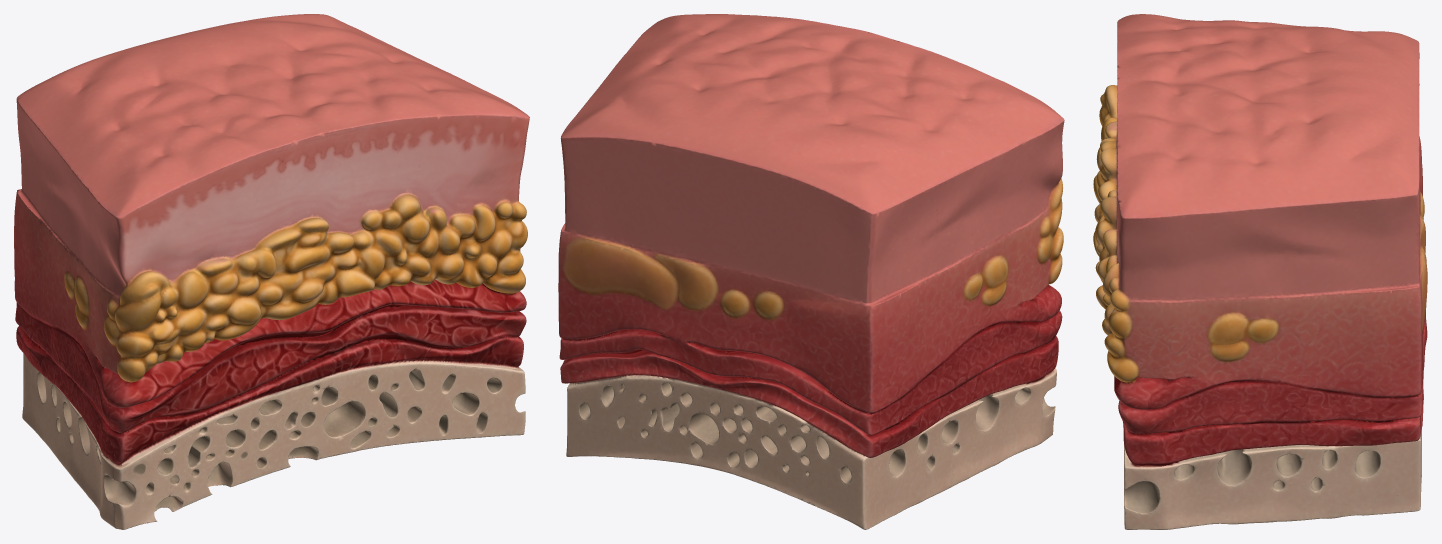
File: skin_layers.glb
The picture shows the model from 3 angles, left to right: view 1: azimuth 30°, elevation 25°; view 2: azimuth 150°, elevation 25°; view 3: azimuth 270°, elevation 25°; orthographic projection.
Bounding box in the file's own units: 1.9 × 1.6 × 1.34.
1 material, 1 textured.
